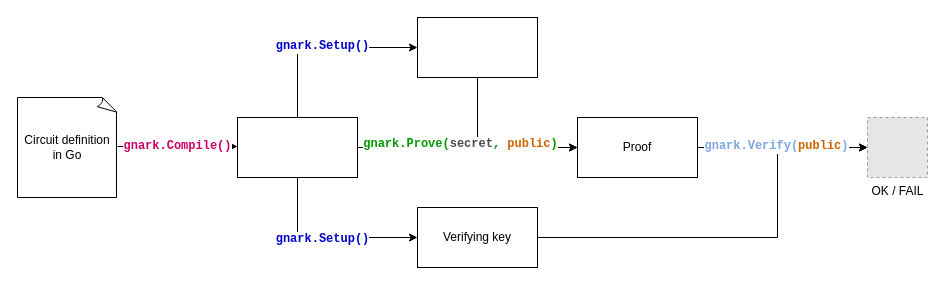
This 945x285 diagram has some shape labels left out. Grey dashed boxes stand in for pictures. Each missing label, with the box of its shape:
Constraint system: (236, 116, 358, 178)
Proving key: (416, 16, 538, 78)
